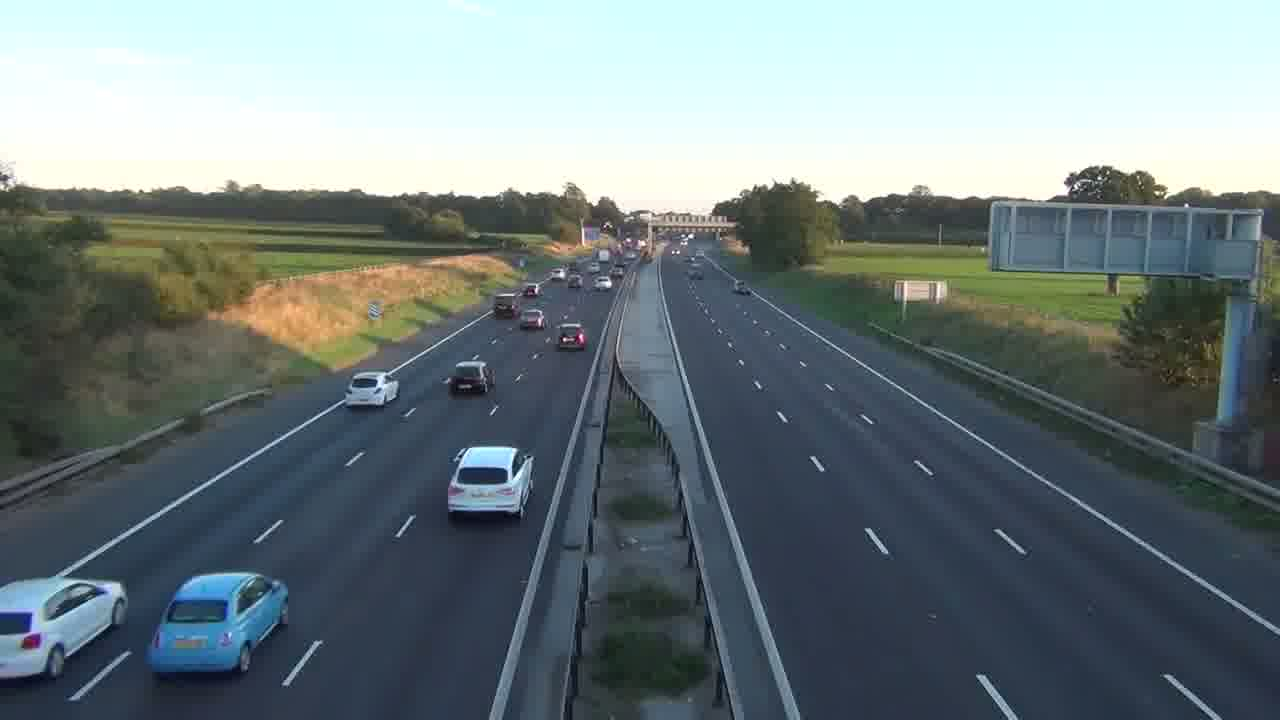car: (145, 571, 290, 677), (0, 574, 129, 682), (446, 445, 536, 520), (344, 369, 400, 408), (445, 359, 495, 395), (557, 322, 588, 351)
